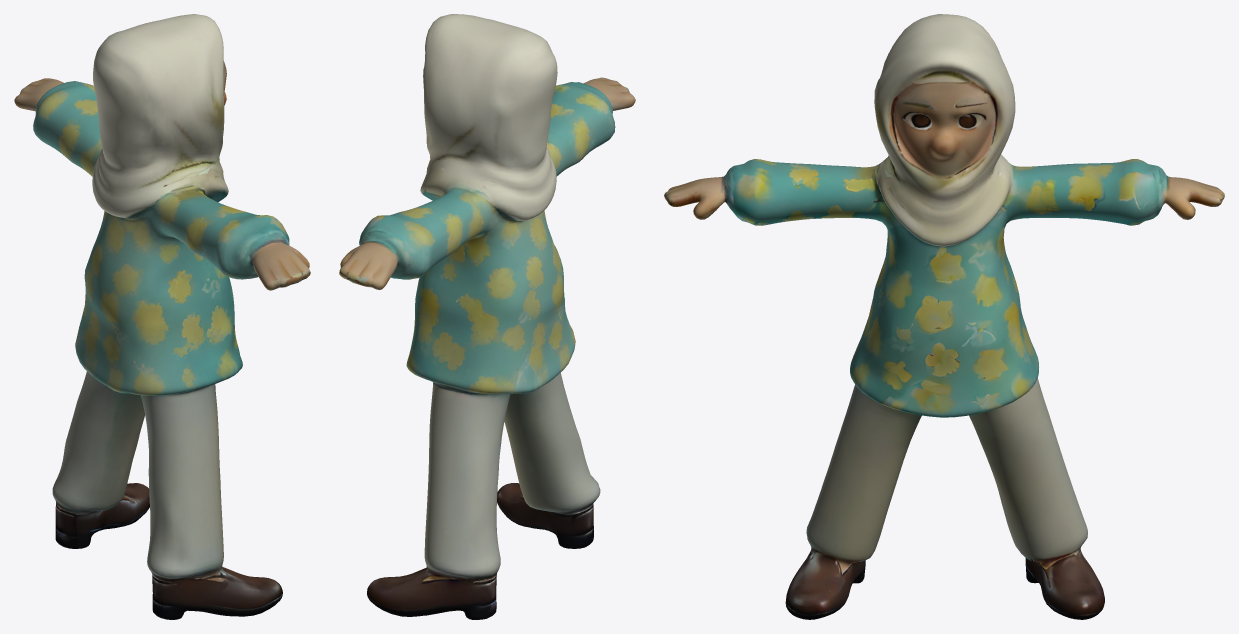
Rendered from tripo_convert_4b01b1f6-f06b-46ac-b6e3-34d76b43b94f.fbx.
3 renders of one model, left to right at view 1: azimuth 30°, elevation 25°; view 2: azimuth 150°, elevation 25°; view 3: azimuth 270°, elevation 25°, orthographic. The views are drawn at different scales.
Visible parts, largest first — view 1: tripo_node_4b01b1f6; view 2: tripo_node_4b01b1f6; view 3: tripo_node_4b01b1f6.
Boxes of the visible parts, <box> form: tripo_node_4b01b1f6: <box>14,14,310,619</box>; tripo_node_4b01b1f6: <box>339,14,635,619</box>; tripo_node_4b01b1f6: <box>664,14,1224,619</box>.
Bounding box in the file's own units: 0.2316 × 0.9486 × 0.8449.
1 material, 1 textured.
